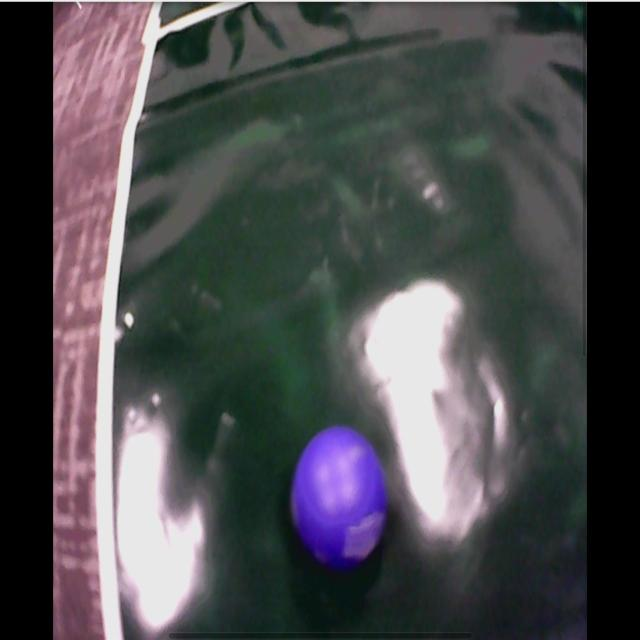ball: (294, 427, 387, 569)
